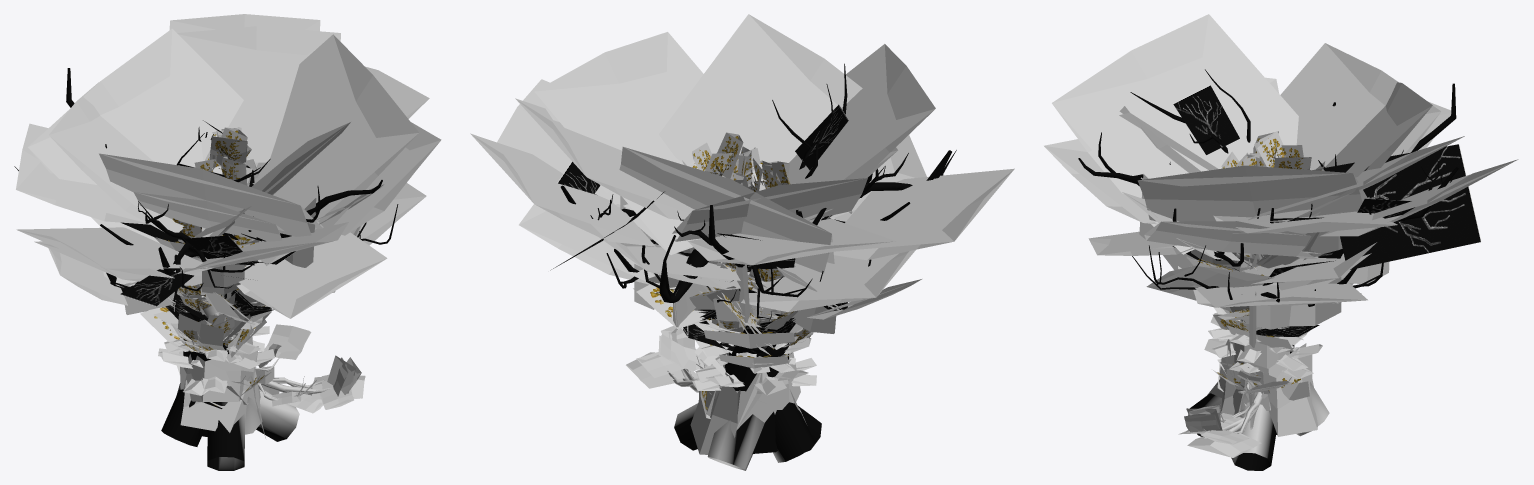
File: MB_ForestDeco.fbx
3 renders of one model, left to right at view 1: azimuth 30°, elevation 25°; view 2: azimuth 150°, elevation 25°; view 3: azimuth 270°, elevation 25°, orthographic. The views are drawn at different scales.
Parts seen in each view (by area): view 1: SwampTreeDeco02_LP, SwampTreeDeco02_MP, SwampTree02_MP, Oak01_MP, SwampTree01_MP, SwampTree01_LP, Oak04_MP, DeadTree02_MP, DeadTree03_MP, Oak02_MP, Birch04_MP, DeadTree02_LP (+4 smaller); view 2: SwampTreeDeco02_LP, SwampTreeDeco02_MP, SwampTree02_MP, Oak01_MP, SwampTree01_MP, Oak04_MP, DeadTree02_MP, Oak04_LP, Oak01_LP, SwampTree01_LP, SwampTree02_LP, DeadTree03_MP (+3 smaller); view 3: SwampTreeDeco02_MP, SwampTreeDeco02_LP, SwampTree02_MP, SwampTree01_MP, Oak01_MP, DeadTree02_MP, SwampTree01_LP, Oak04_MP, DeadTree03_MP, SwampTree02_LP, Bush02_MP, Oak04_LP (+1 smaller).
Part boxes in pixels (bbox=[...]): SwampTreeDeco02_LP: bbox=[16, 20, 440, 437]; SwampTreeDeco02_MP: bbox=[16, 14, 441, 434]; SwampTree02_MP: bbox=[15, 68, 398, 470]; Oak01_MP: bbox=[140, 161, 273, 354]; SwampTree01_MP: bbox=[255, 324, 365, 413]; SwampTree01_LP: bbox=[258, 331, 364, 412]; Oak04_MP: bbox=[172, 127, 251, 311]; DeadTree02_MP: bbox=[158, 295, 274, 395]; DeadTree03_MP: bbox=[164, 154, 269, 362]; Oak02_MP: bbox=[171, 170, 271, 352]; Birch04_MP: bbox=[173, 130, 249, 311]; DeadTree02_LP: bbox=[158, 296, 272, 395]; SwampTreeDeco02_LP: bbox=[470, 14, 1014, 428]; SwampTreeDeco02_MP: bbox=[471, 14, 1014, 454]; SwampTree02_MP: bbox=[561, 63, 956, 470]; Oak01_MP: bbox=[636, 213, 851, 376]; SwampTree01_MP: bbox=[626, 326, 710, 396]; Oak04_MP: bbox=[682, 132, 789, 353]; DeadTree02_MP: bbox=[694, 337, 816, 395]; Oak04_LP: bbox=[688, 132, 789, 327]; Oak01_LP: bbox=[633, 211, 851, 351]; SwampTree01_LP: bbox=[626, 327, 712, 400]; SwampTree02_LP: bbox=[561, 150, 951, 372]; DeadTree03_MP: bbox=[701, 147, 802, 373]; SwampTreeDeco02_MP: bbox=[1044, 14, 1518, 436]; SwampTreeDeco02_LP: bbox=[1044, 14, 1516, 382]; SwampTree02_MP: bbox=[1078, 69, 1458, 470]; SwampTree01_MP: bbox=[1182, 368, 1289, 457]; Oak01_MP: bbox=[1186, 232, 1353, 351]; DeadTree02_MP: bbox=[1204, 328, 1322, 378]; SwampTree01_LP: bbox=[1179, 369, 1288, 457]; Oak04_MP: bbox=[1221, 131, 1325, 269]; DeadTree03_MP: bbox=[1210, 140, 1303, 362]; SwampTree02_LP: bbox=[1084, 84, 1458, 388]; Bush02_MP: bbox=[1217, 358, 1309, 400]; Oak04_LP: bbox=[1227, 131, 1311, 169].
Size of the model in its own units: 3902 by 3345 by 3936.
